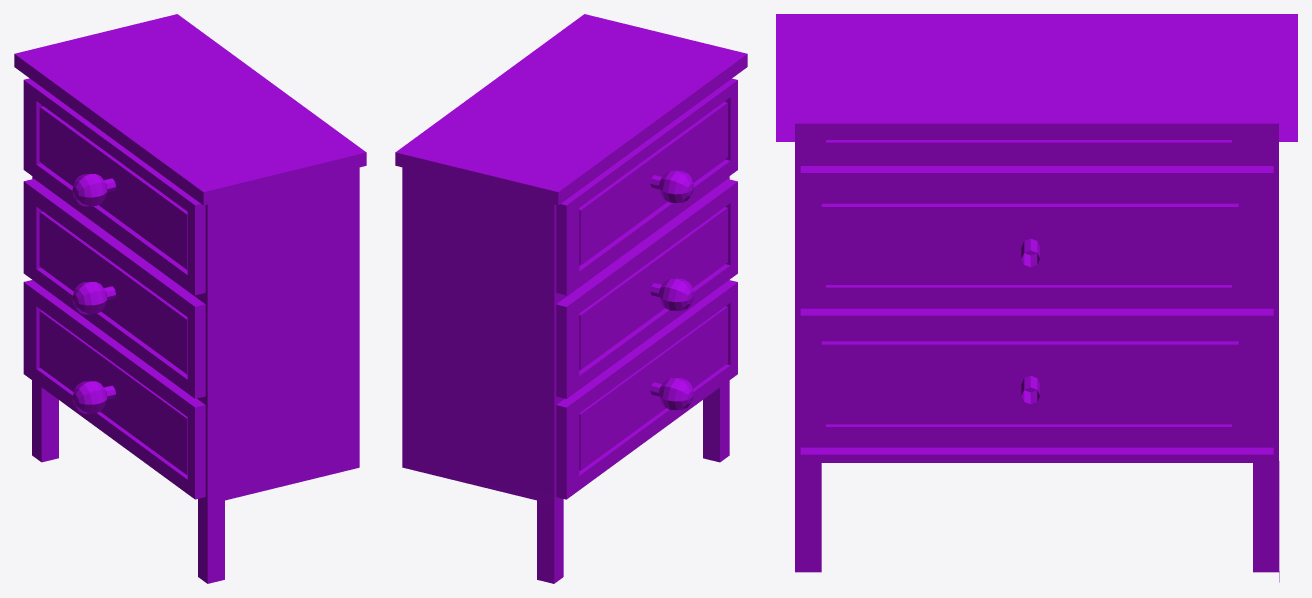
File: sm_drawers_low.fbx
3 renders of one model, left to right at view 1: azimuth 30°, elevation 25°; view 2: azimuth 150°, elevation 25°; view 3: azimuth 270°, elevation 25°, orthographic. The views are drawn at different scales.
Visible parts, largest first — view 1: polySurface102; view 2: polySurface102; view 3: polySurface102.
Part boxes in pixels (bbox=[...]): polySurface102: bbox=[14, 14, 366, 583]; polySurface102: bbox=[395, 14, 747, 583]; polySurface102: bbox=[776, 14, 1297, 582].
Size of the model in its own units: 177 by 337 by 290.
